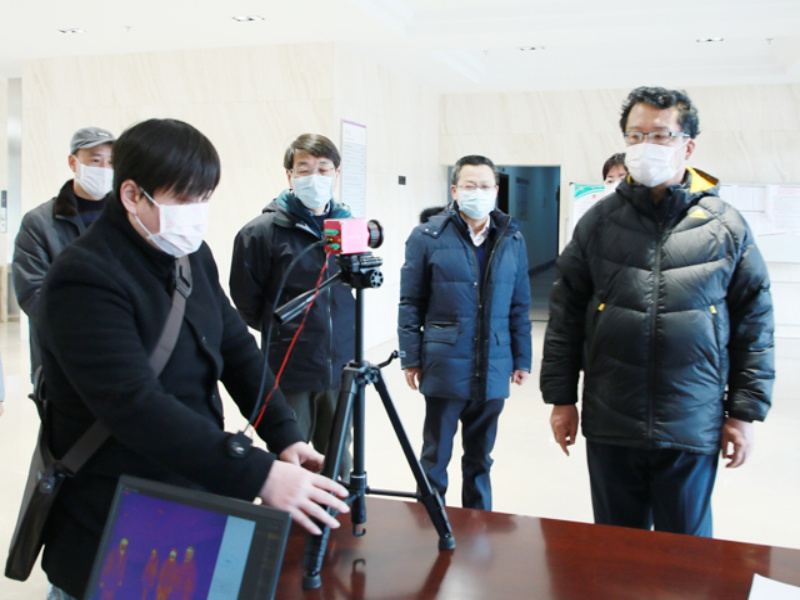ManaoArotava: (123, 117, 226, 271), (609, 87, 704, 219), (277, 124, 350, 230), (57, 119, 122, 206), (440, 151, 501, 237)
